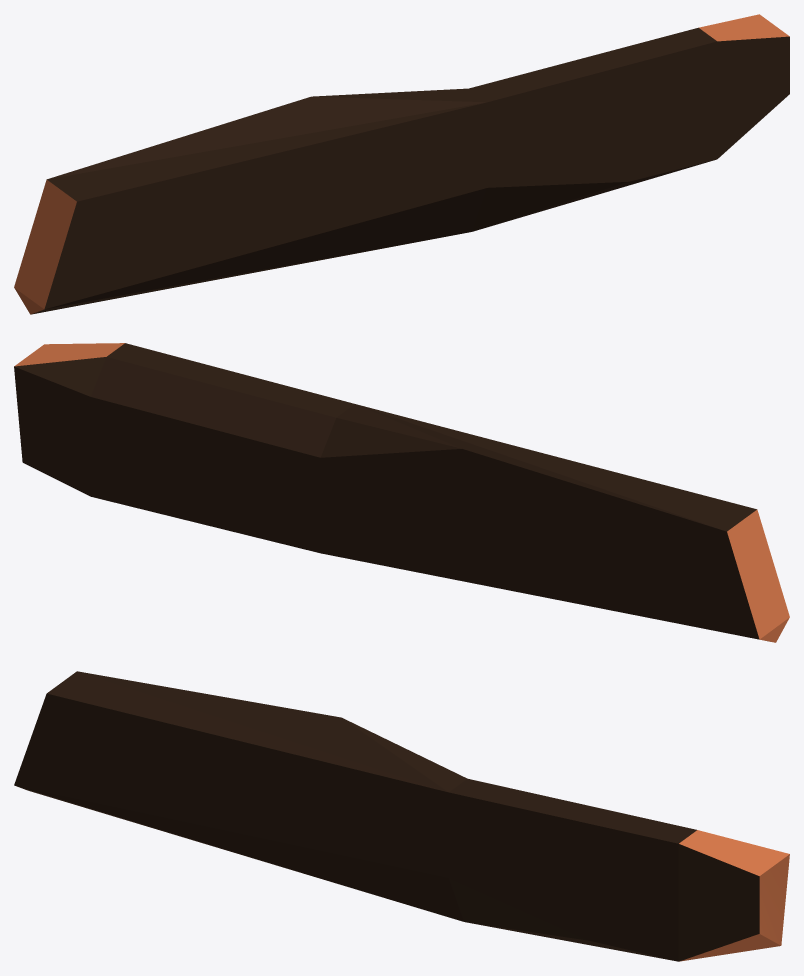
Rendered from Plank_02.FBX.
3 views of the same model, one above another, from view 1: azimuth 30°, elevation 25°; view 2: azimuth 150°, elevation 25°; view 3: azimuth 330°, elevation 25° (orthographic).
Parts seen in each view (by area): view 1: Plank_02; view 2: Plank_02; view 3: Plank_02.
Boxes of the visible parts, x1=… form: Plank_02: x1=14, y1=14, x2=789, y2=314; Plank_02: x1=14, y1=343, x2=789, y2=642; Plank_02: x1=14, y1=671, x2=789, y2=961.
Bounding box in the file's own units: 2.69 × 0.5377 × 0.2162.
